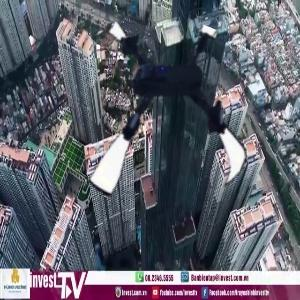drone: (65, 17, 262, 214)
